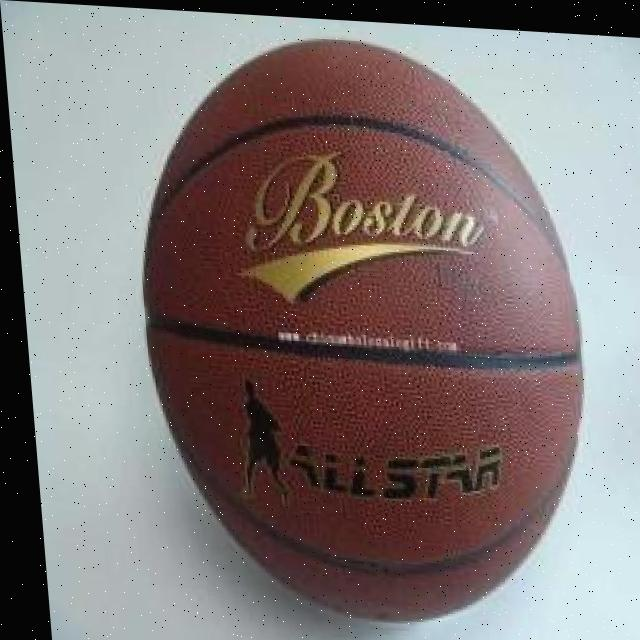Basketball: (120, 27, 604, 630)
